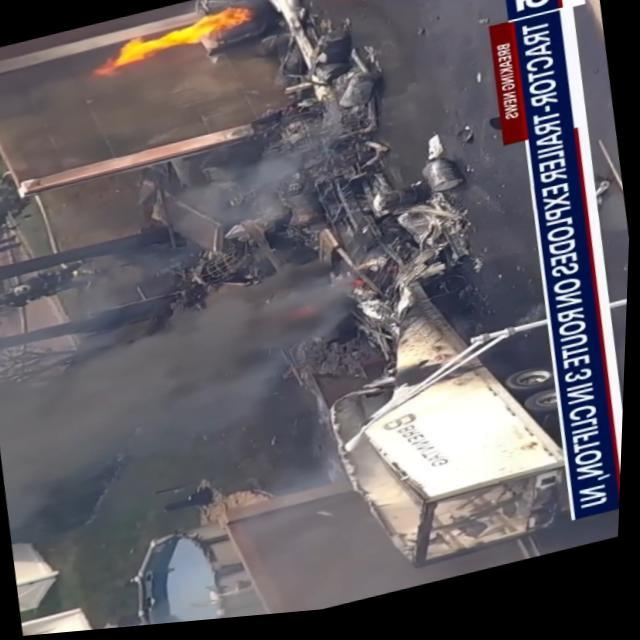fire: (76, 4, 264, 88)
